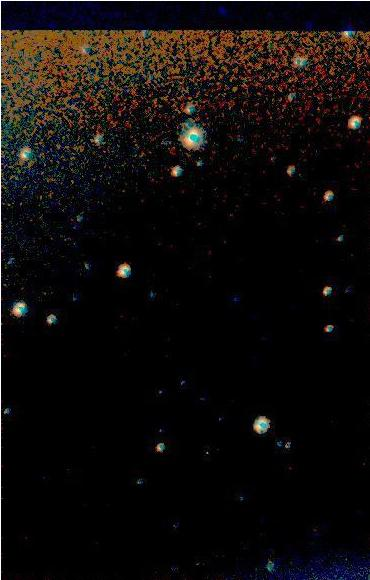star: (192, 438, 222, 468)
